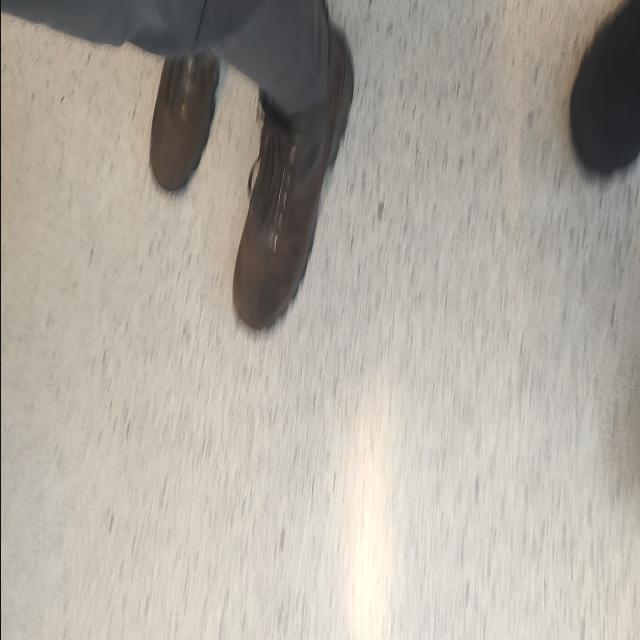Boots: (229, 22, 361, 344), (144, 38, 222, 196)
